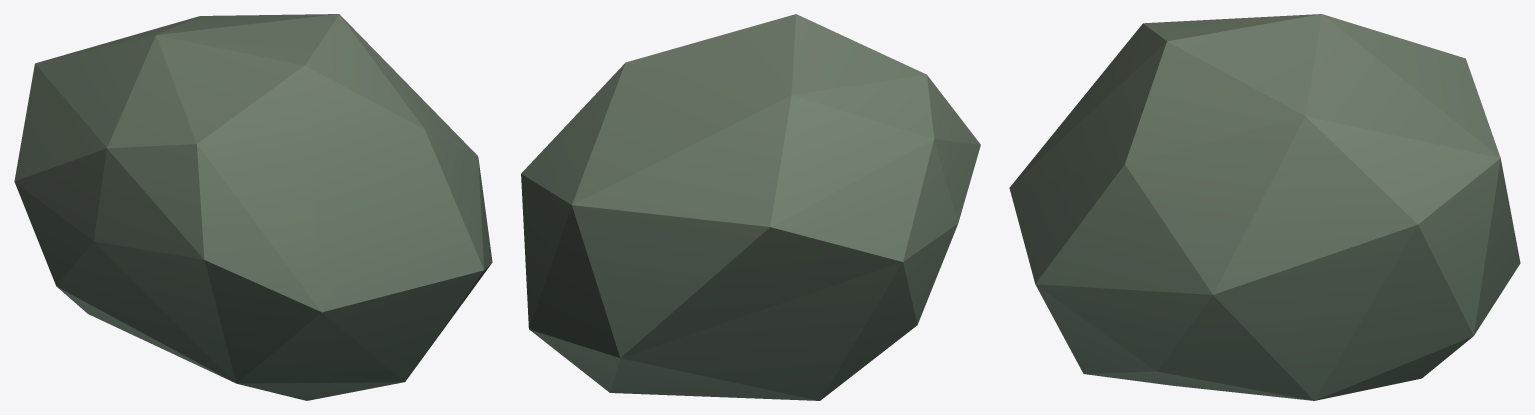
Rendered from Rock_Small_3.fbx.
The picture shows the model from 3 angles, left to right: view 1: azimuth 30°, elevation 25°; view 2: azimuth 150°, elevation 25°; view 3: azimuth 270°, elevation 25°; orthographic projection.
Parts seen in each view (by area): view 1: Rock_Small_3; view 2: Rock_Small_3; view 3: Rock_Small_3.
Boxes of the visible parts, left/top/right/bottom form: Rock_Small_3: left=14, top=14, right=492, bottom=400; Rock_Small_3: left=521, top=14, right=980, bottom=400; Rock_Small_3: left=1009, top=14, right=1520, bottom=400.
Size of the model in its own units: 118 by 96.26 by 130.
